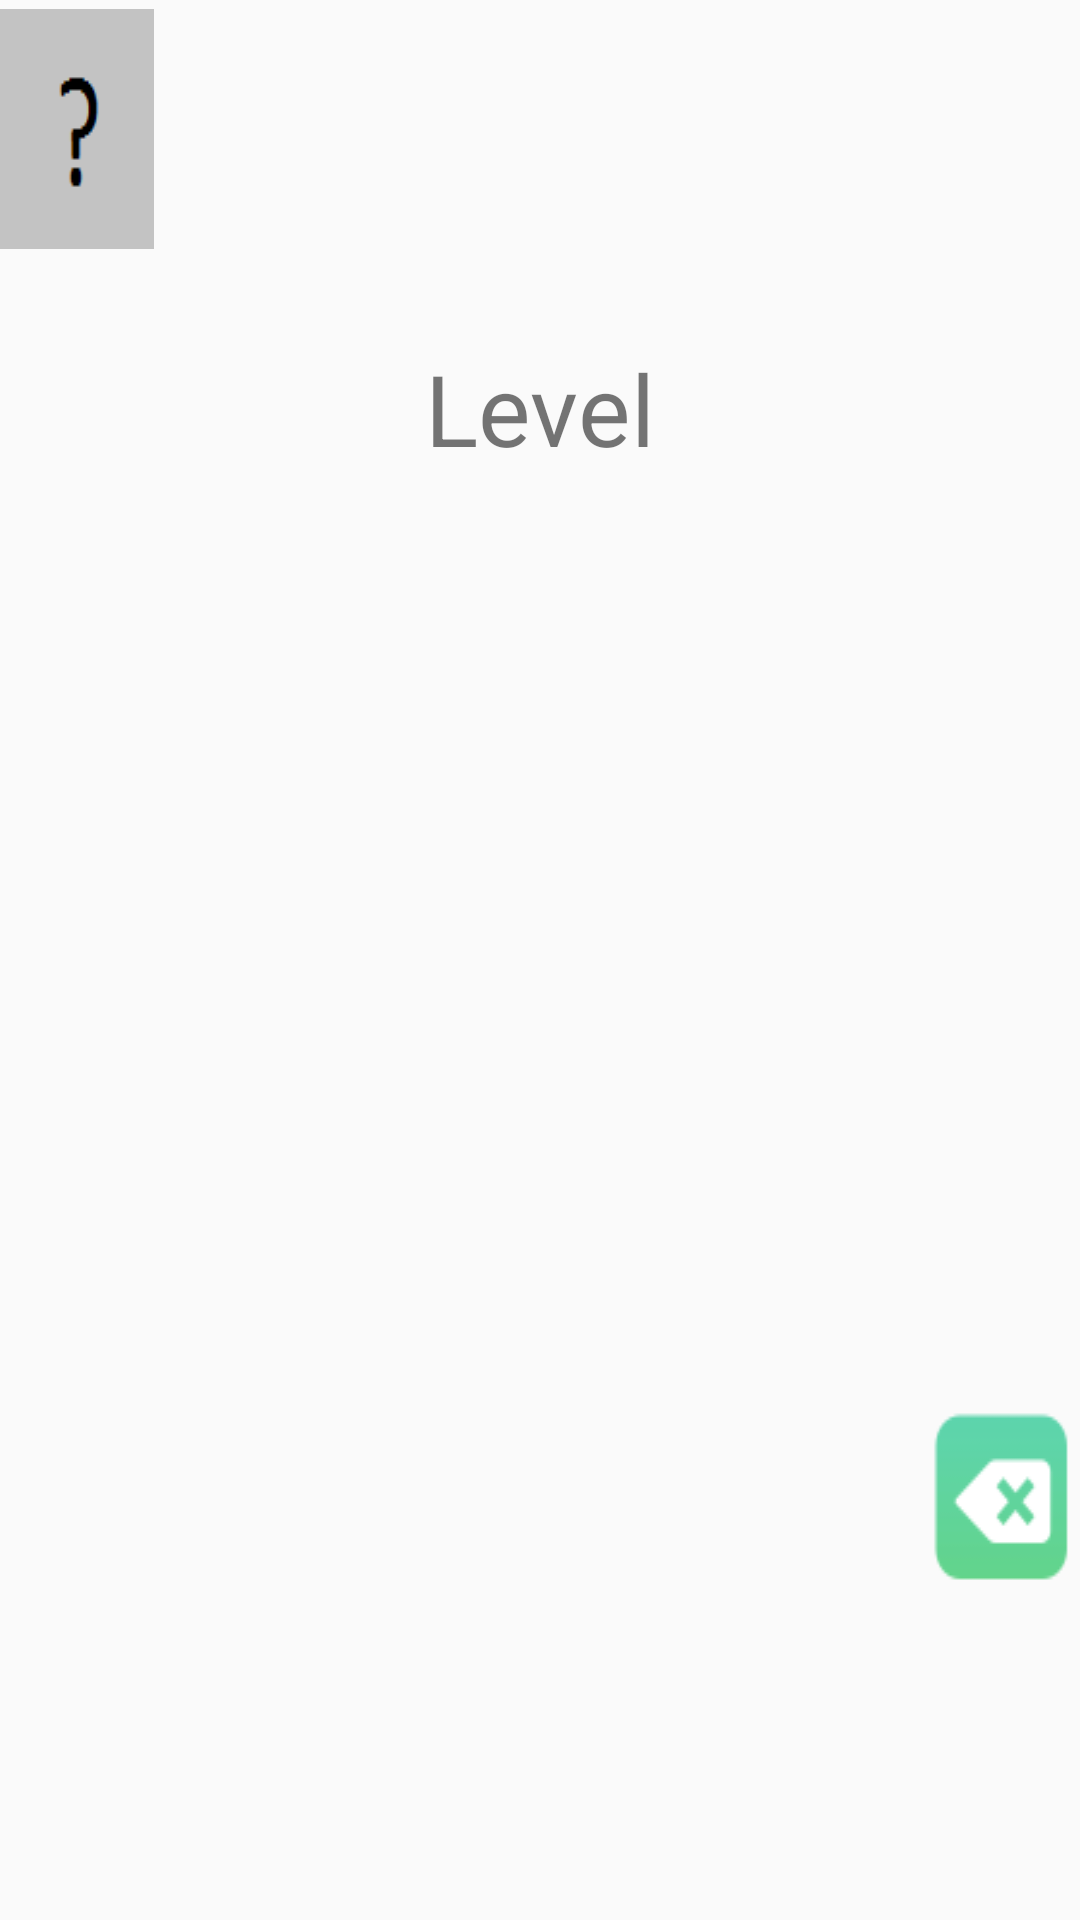

Point at icon controls on the screen. Image size 1080x1920, points as (x,y).
help: (77,129)
